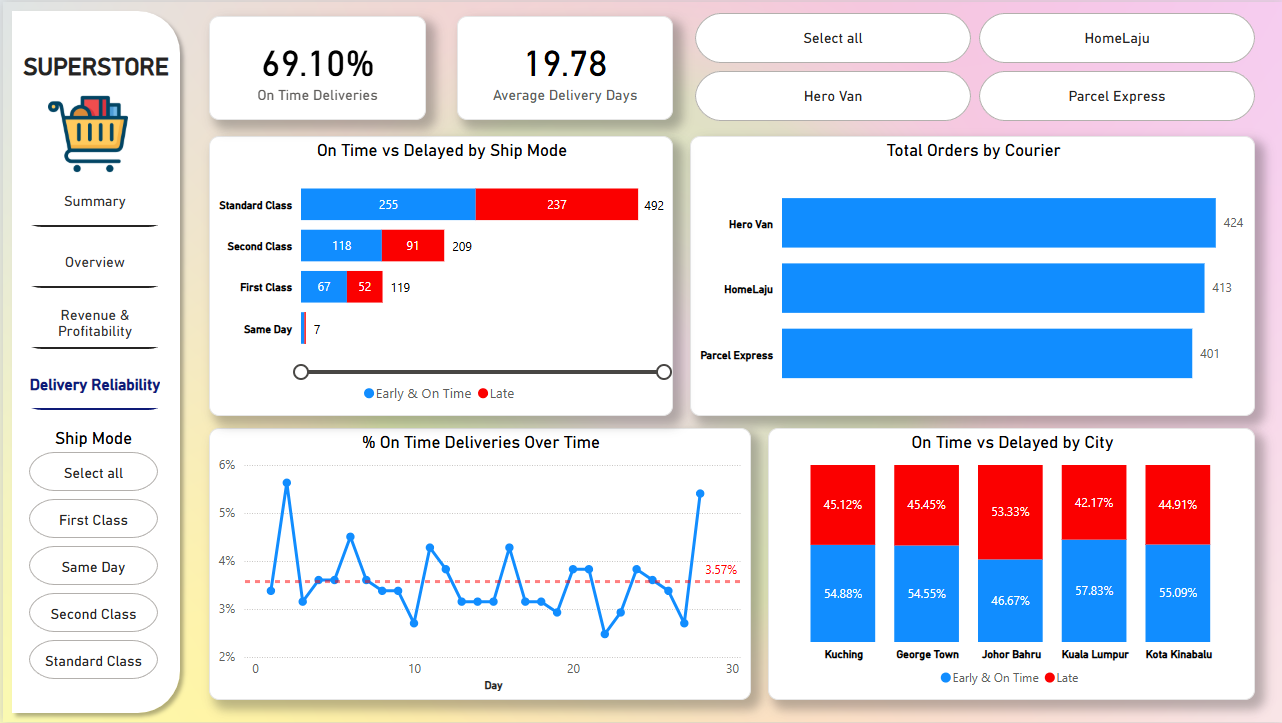

Layout of this report page (visuals, bound fields, positions):
{"tool":"powerbi","page":{"name":"Delivery Reliability","canvas":[1280,720],"ordinal":3},"visuals":[{"type":"shape","box":[0,0,186.2,720],"z":0},{"type":"textbox","box":[0,28.8,171.2,58.8],"z":1000},{"type":"barChart","title":"Total Orders by Courier","fields":{"Y":["CountNonNull(Orders.Order ID)"],"Category":["Shipping.Courier"]},"box":[687.3,133.6,564.5,280],"z":2000},{"type":"card","fields":{"Values":["Shipping.Average Delivery Days"]},"box":[453.6,13.5,216.4,104.5],"z":3000},{"type":"lineChart","title":"% On Time Deliveries Over Time","fields":{"Category":["Shipping.Order Date.Variation.Date Hierarchy.Day"],"Series":["Shipping.On Time (Group)"],"Y":["CountNonNull(Shipping.On Time (Group))"]},"box":[206.5,426.4,541.3,271.1],"z":4000},{"type":"hundredPercentStackedBarChart","title":"On Time vs Delayed by Ship Mode","fields":{"Category":["Shipping.Ship Mode"],"Y":["CountNonNull(Orders.Order ID)"],"Series":["Shipping.On Time (Group)"]},"box":[206.4,133.6,463.6,280],"z":5000},{"type":"card","fields":{"Values":["Shipping.% On Time Deliveries"]},"box":[206.4,13.5,216.4,104.5],"z":6000},{"type":"advancedSlicerVisual","fields":{"Values":["Shipping.Courier"]},"box":[687.3,6.4,570,117.3],"z":7000},{"type":"advancedSlicerVisual","fields":{"Values":["Shipping.Ship Mode"]},"box":[20.9,426.4,139.1,259.1],"z":8000},{"type":"image","box":[40.4,87.1,89.8,89.8],"z":9000},{"type":"pageNavigator","box":[12.6,174.2,158.9,234.3],"z":10000},{"type":"hundredPercentStackedColumnChart","title":"On Time vs Delayed by City","fields":{"Category":["Location.City"],"Y":["Divide(CountNonNull(Orders.Order ID), ScopedEval(CountNonNull(Orders.Order ID), []))"],"Series":["Shipping.On Time (Group)"]},"box":[764.9,426.4,487.5,271.1],"z":11000}]}

Visuals, with their boxes in screenshot pixels (x1, y1, x2, y2), scaled from the page's 1280x720 canvas onto the 1282x723 screenshot:
shape: [left=0, top=0, right=186, bottom=722]
textbox: [left=0, top=29, right=171, bottom=88]
"Total Orders by Courier" barChart: [left=688, top=134, right=1254, bottom=415]
card - Shipping.Average Delivery Days: [left=454, top=14, right=671, bottom=118]
"% On Time Deliveries Over Time" lineChart: [left=207, top=428, right=749, bottom=700]
"On Time vs Delayed by Ship Mode" hundredPercentStackedBarChart: [left=207, top=134, right=671, bottom=415]
card - Shipping.% On Time Deliveries: [left=207, top=14, right=423, bottom=118]
advancedSlicerVisual - Shipping.Courier: [left=688, top=6, right=1259, bottom=124]
advancedSlicerVisual - Shipping.Ship Mode: [left=21, top=428, right=160, bottom=688]
image: [left=40, top=87, right=130, bottom=178]
pageNavigator: [left=13, top=175, right=172, bottom=410]
"On Time vs Delayed by City" hundredPercentStackedColumnChart: [left=766, top=428, right=1254, bottom=700]
